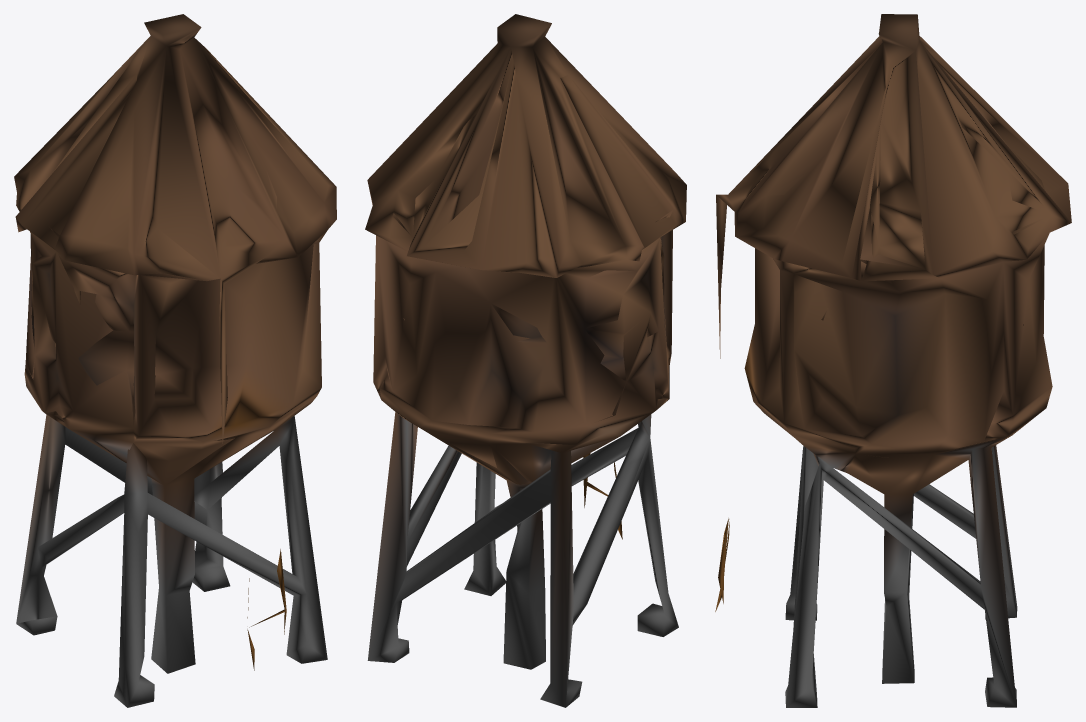
The model's file is gen3d-rooftop-water-tank-lod1.glb.
The picture shows the model from 3 angles, left to right: view 1: azimuth 30°, elevation 25°; view 2: azimuth 150°, elevation 25°; view 3: azimuth 270°, elevation 25°; orthographic projection. The views are drawn at different scales.
Visible parts, largest first — view 1: part_0; view 2: part_0; view 3: part_0.
Part boxes in pixels (x1,y1,x2,y2): part_0: (14, 14, 336, 707); part_0: (365, 14, 686, 707); part_0: (715, 14, 1071, 707).
Size of the model in its own units: 0.4538 by 0.9977 by 0.4917.
